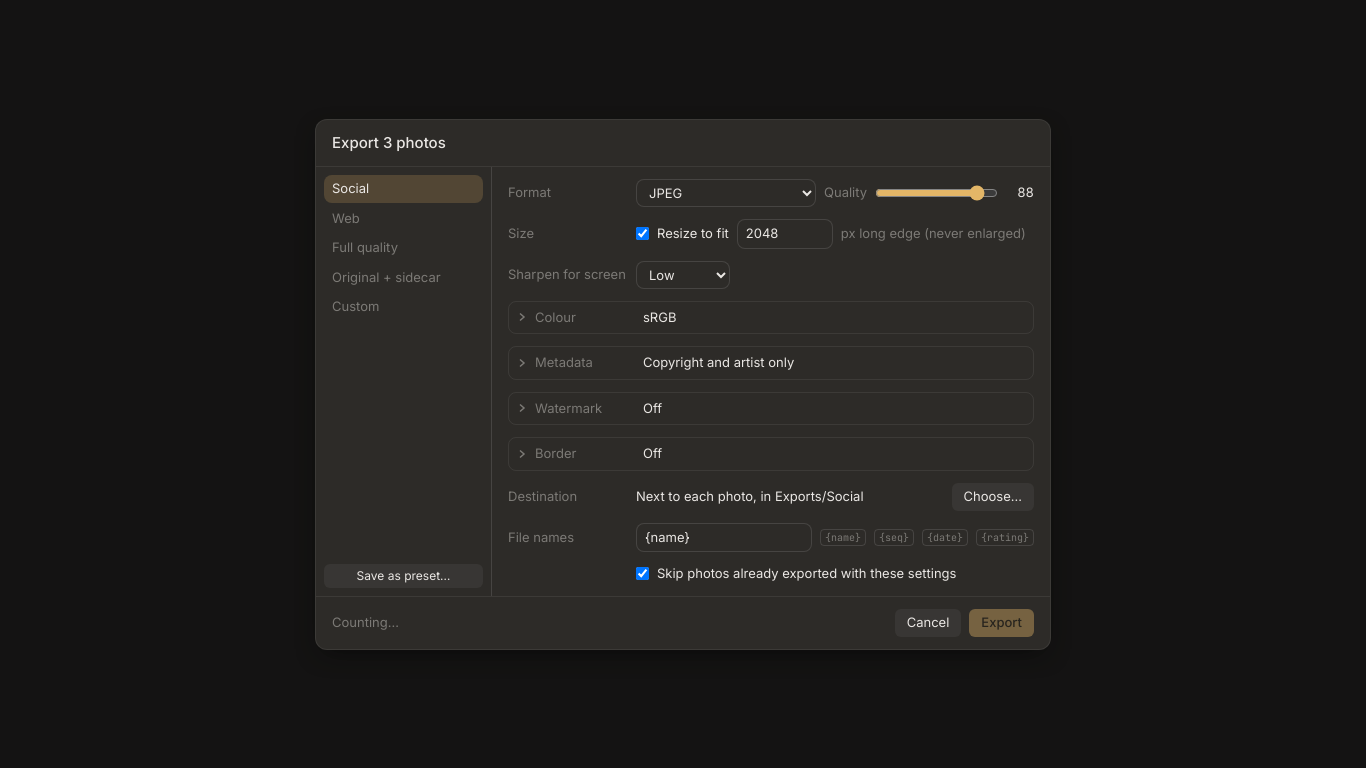
Export dialog, plan 12 › Original + sidecar keeps the source extension and offers no develop options
Click the button "Original + sidecar": x=404, y=277 [324, 264, 483, 291]
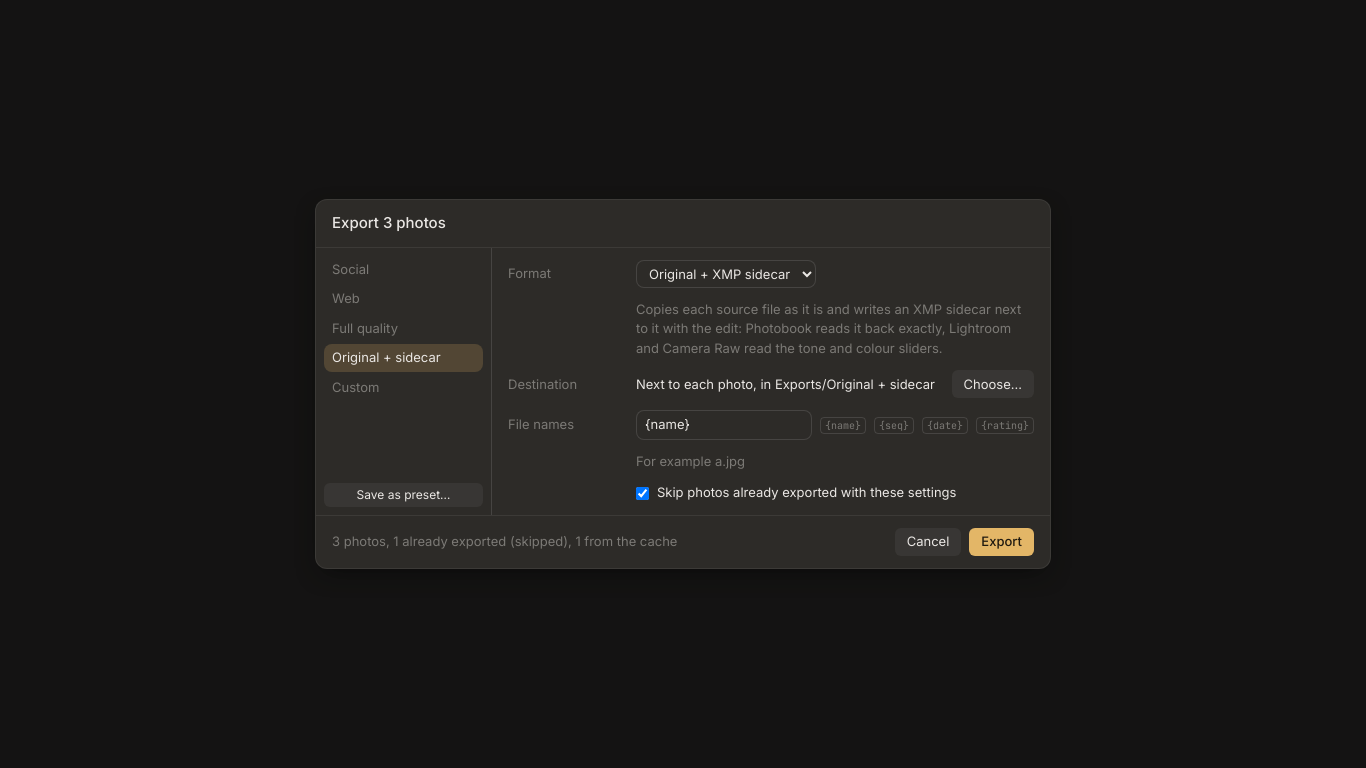
Check: the text "Resize to fit" is gone
Check: the text "For example a.jpg" is shown, box [636, 453, 745, 469]
